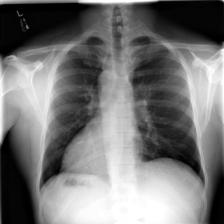normal: (31, 26, 211, 205)
